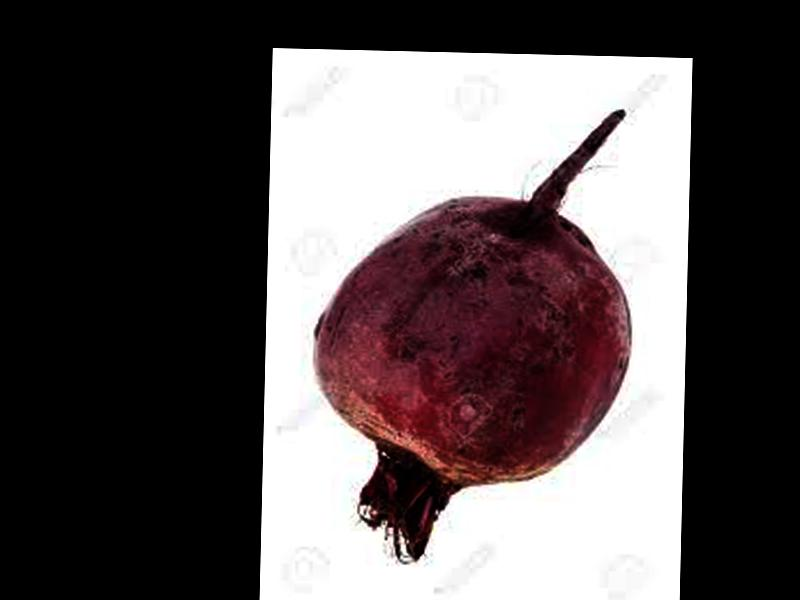Beet: (313, 107, 635, 565)
